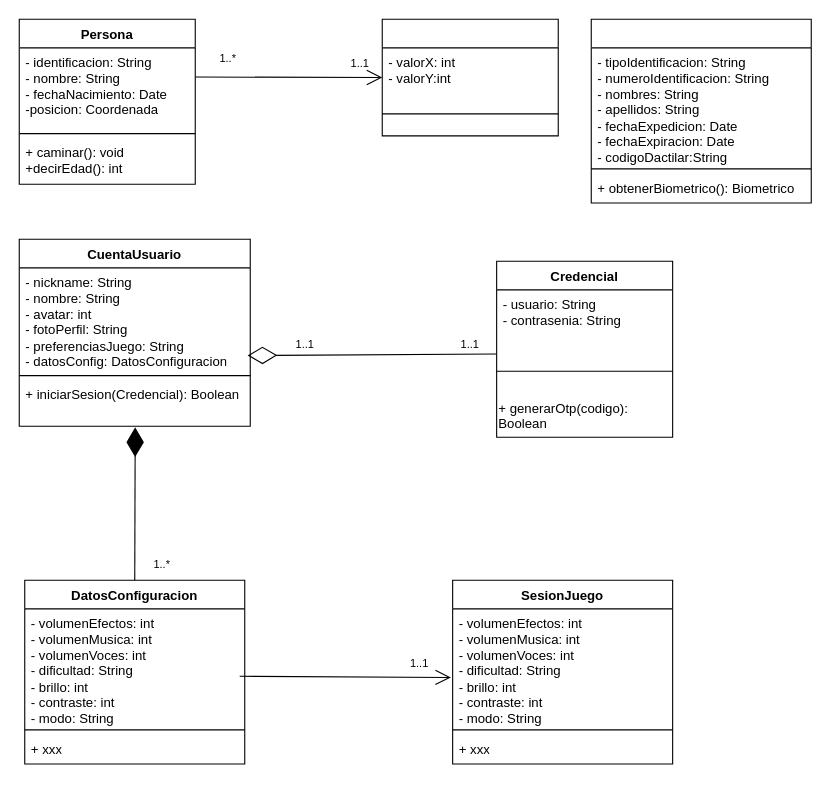
This 831x787 diagram has some shape labels left out. The box of each missing label's shape, as (x1, y1, x2, y2) in pixels:
Coordenada: (381, 18, 558, 136)
DocumentoIdentificacion: (590, 18, 811, 203)
